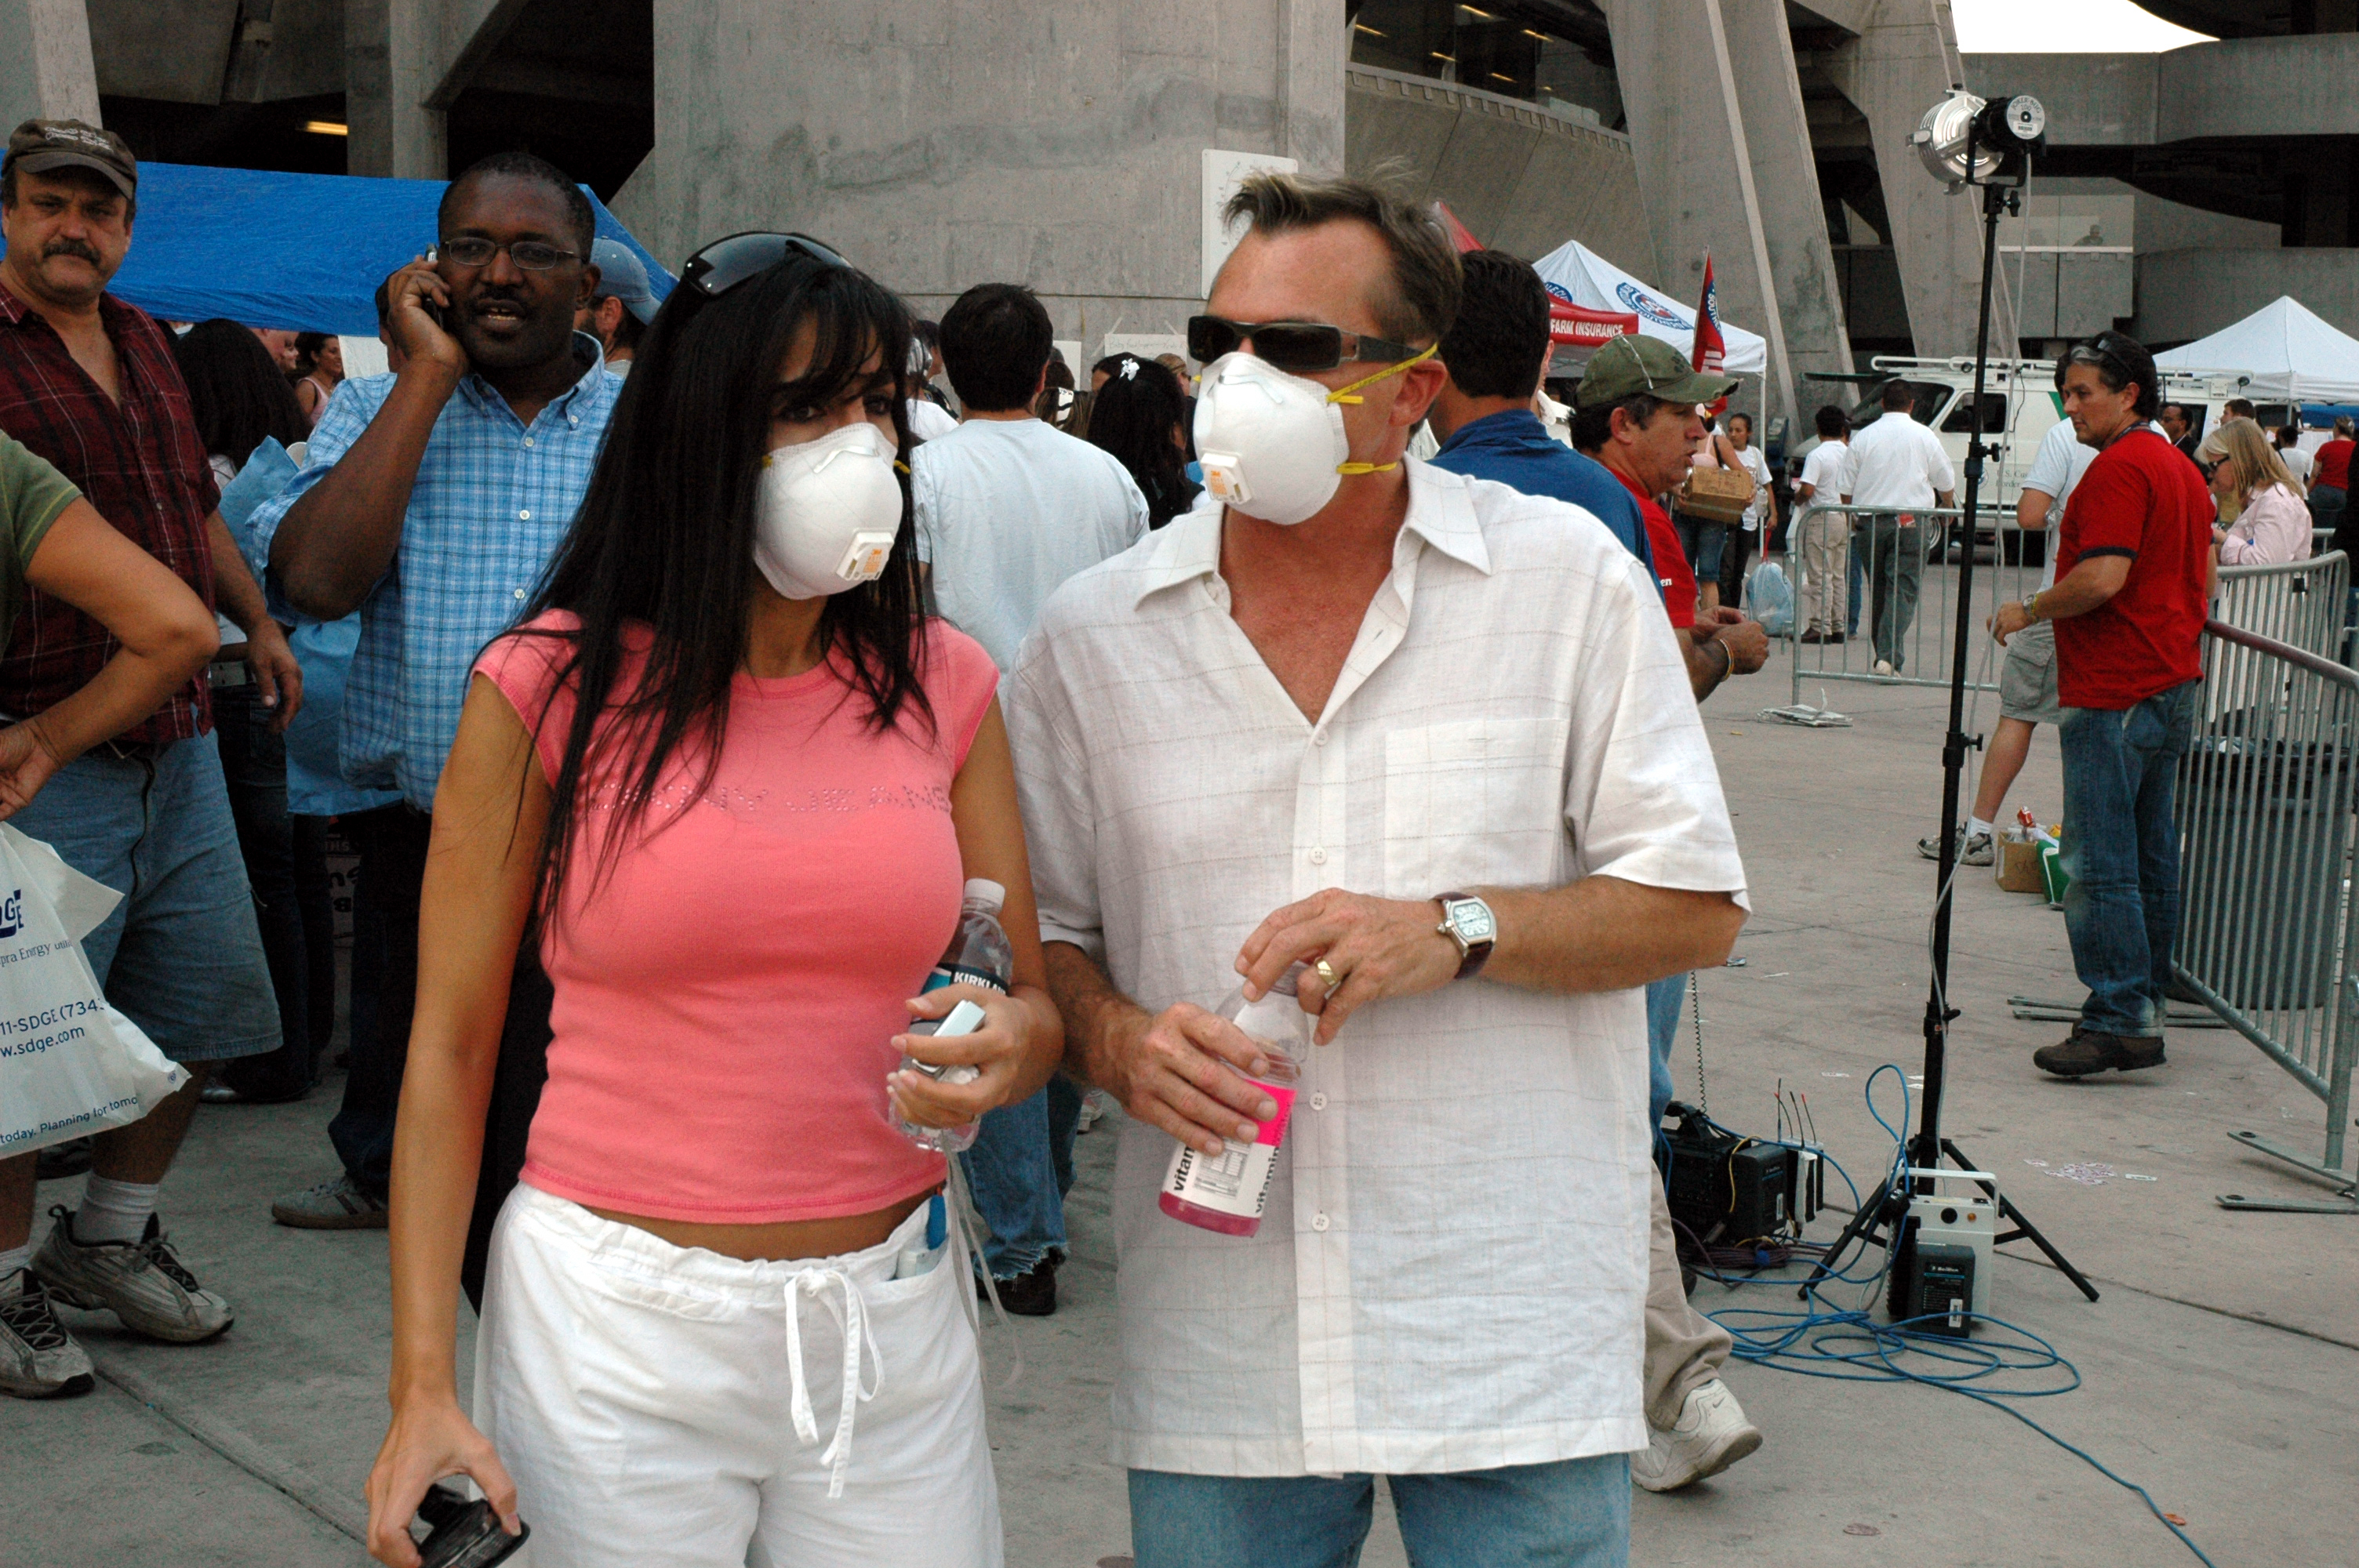bare: (421, 260, 590, 379), (13, 205, 140, 303), (1630, 408, 1706, 486), (2050, 400, 2116, 454)
n95: (716, 413, 923, 612), (1171, 347, 1372, 545)
